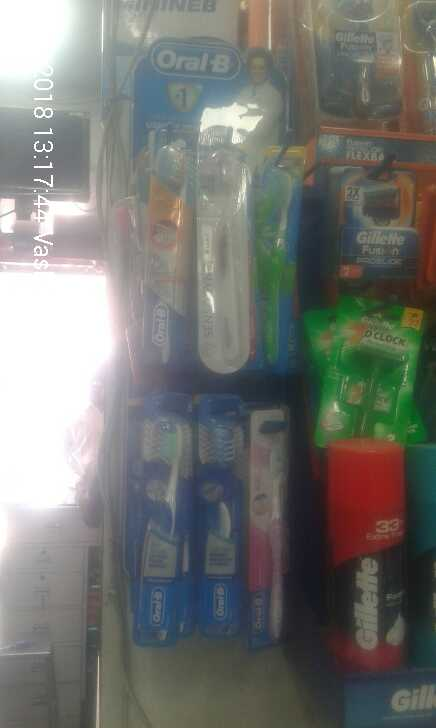beauty: (320, 436, 421, 695)
pharmacy: (138, 396, 185, 639), (246, 408, 290, 641), (199, 400, 240, 644)
